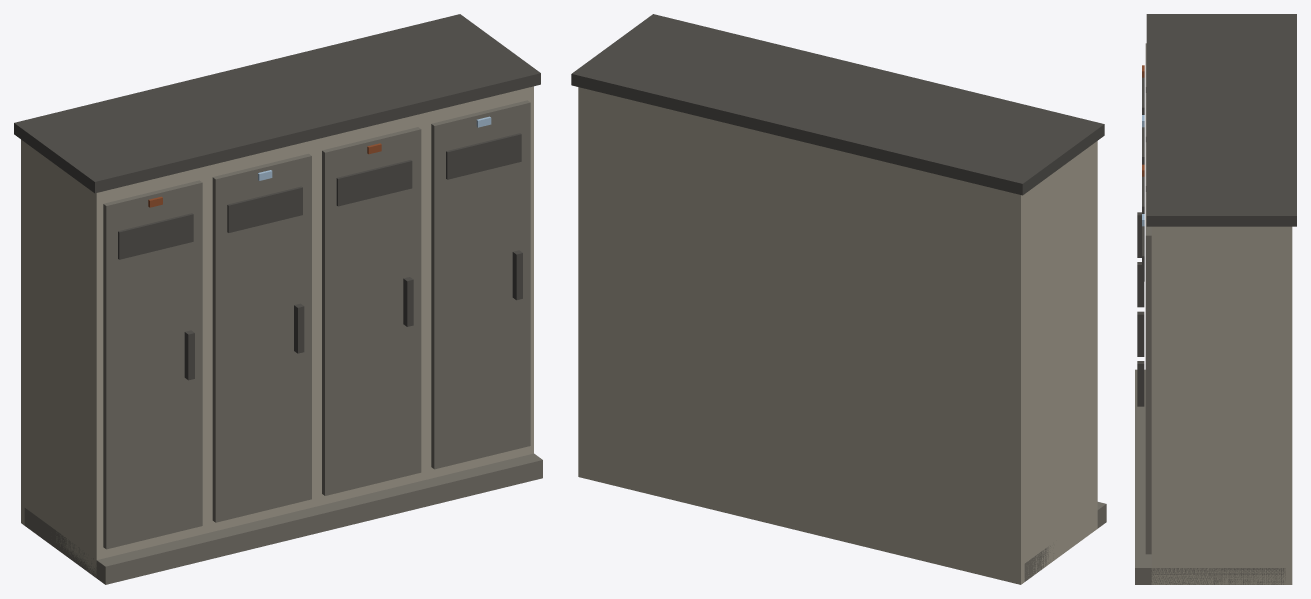
Rendered from civilian_locker.glb.
3 renders of one model, left to right at view 1: azimuth 30°, elevation 25°; view 2: azimuth 150°, elevation 25°; view 3: azimuth 270°, elevation 25°, orthographic. The views are drawn at different scales.
Visible parts, largest first — view 1: civilian_locker; view 2: civilian_locker; view 3: civilian_locker.
Part boxes in pixels (x1,y1,x2,y2): civilian_locker: (14, 14, 542, 584); civilian_locker: (571, 14, 1106, 584); civilian_locker: (1135, 14, 1296, 584).
Size of the model in its own units: 2.04 by 1.75 by 0.69.
